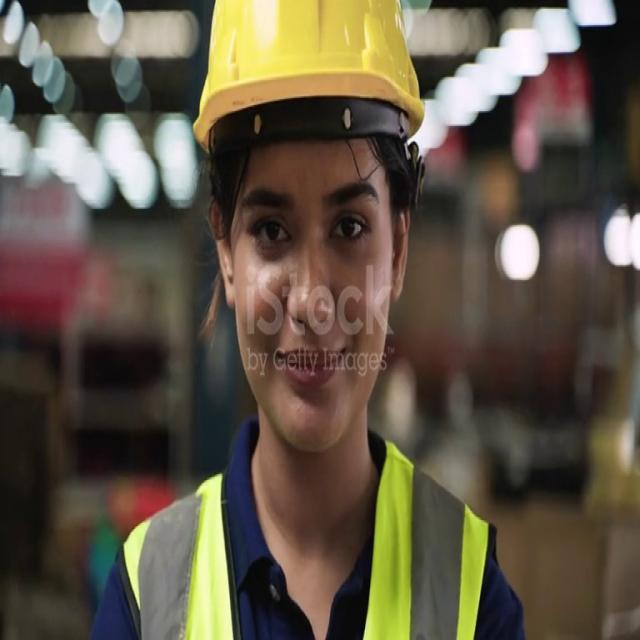capacete: (185, 0, 443, 233)
